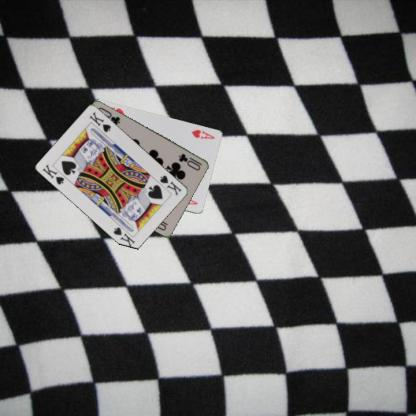10c: (176, 150, 204, 172)
Ah: (189, 127, 216, 140)
Ks: (40, 162, 66, 186), (158, 173, 183, 196)
